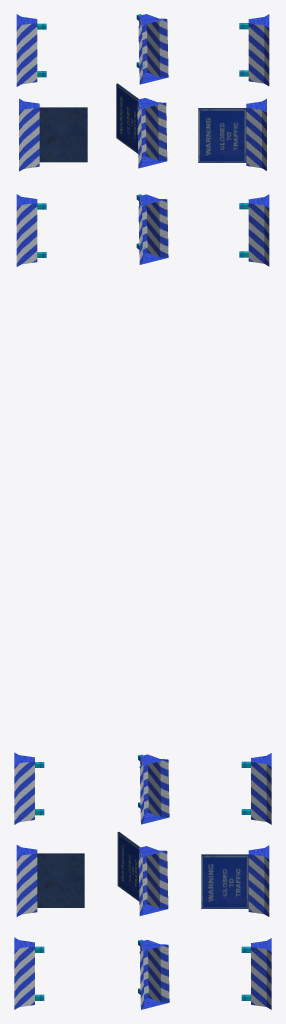
Rendered from industsw_industsw__part_12.obj.
The picture shows the model from 3 angles, left to right: view 1: azimuth 90°, elevation 25°; view 2: azimuth 210°, elevation 25°; view 3: azimuth 270°, elevation 25°; orthographic projection.
Parts seen in each view (by area): view 1: industsw_industsw__part_12; view 2: industsw_industsw__part_12; view 3: industsw_industsw__part_12.
Boxes of the visible parts, x1=… form: industsw_industsw__part_12: x1=14, y1=14, x2=87, y2=1009; industsw_industsw__part_12: x1=116, y1=14, x2=169, y2=1009; industsw_industsw__part_12: x1=198, y1=14, x2=271, y2=1009.
Size of the model in its own units: 1.27 by 39.84 by 2.69.
Materials: 6 (6 with a texture image).
